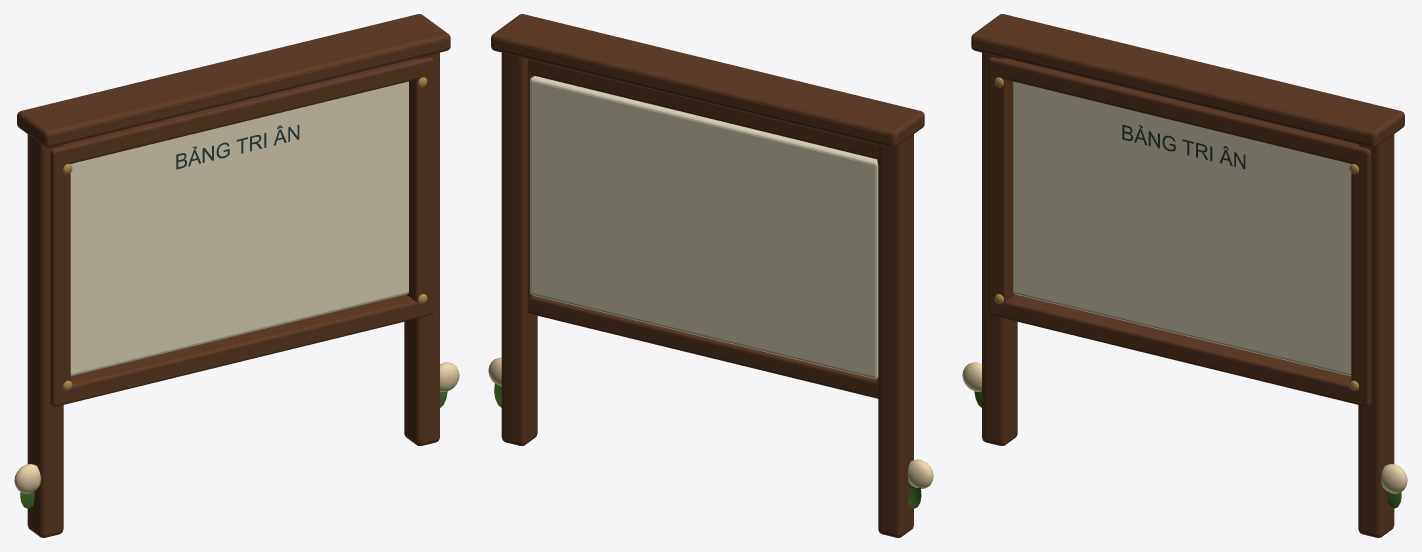
The picture shows the model from 3 angles, left to right: view 1: azimuth 30°, elevation 25°; view 2: azimuth 150°, elevation 25°; view 3: azimuth 330°, elevation 25°; orthographic projection.
Parts seen in each view (by area): view 1: Reading field, Top cap, Post, Frame.002, Frame.003, Post.001, Frame.001, Frame, Heading, Small flower.001; view 2: Reading field, Top cap, Post, Post.001, Frame.002, Frame.003, Small flower.001; view 3: Reading field, Top cap, Post.001, Frame.002, Frame.003, Post, Frame, Frame.001, Heading, Small flower.
Boxes of the visible parts, bbox=[...] form: Reading field: bbox=[70, 81, 408, 376]; Top cap: bbox=[17, 14, 450, 147]; Post: bbox=[27, 134, 63, 537]; Frame.002: bbox=[53, 294, 432, 406]; Frame.003: bbox=[52, 57, 432, 165]; Post.001: bbox=[404, 52, 439, 445]; Frame.001: bbox=[406, 59, 433, 313]; Frame: bbox=[50, 150, 70, 405]; Heading: bbox=[176, 125, 299, 169]; Small flower.001: bbox=[14, 464, 40, 493]; Reading field: bbox=[530, 76, 878, 378]; Top cap: bbox=[491, 14, 924, 147]; Post: bbox=[878, 134, 913, 537]; Post.001: bbox=[501, 52, 537, 445]; Frame.002: bbox=[528, 295, 878, 398]; Frame.003: bbox=[528, 59, 878, 159]; Small flower.001: bbox=[907, 459, 933, 488]; Reading field: bbox=[1013, 81, 1351, 376]; Top cap: bbox=[971, 14, 1404, 147]; Post.001: bbox=[1358, 134, 1394, 537]; Frame.002: bbox=[989, 294, 1368, 406]; Frame.003: bbox=[989, 57, 1369, 164]; Post: bbox=[982, 52, 1017, 445]; Frame: bbox=[988, 59, 1015, 314]; Frame.001: bbox=[1351, 150, 1371, 405]; Heading: bbox=[1122, 124, 1245, 169]; Small flower: bbox=[1381, 464, 1407, 493].
Bounding box in the file's own units: 3.3 × 2.94 × 0.4.
